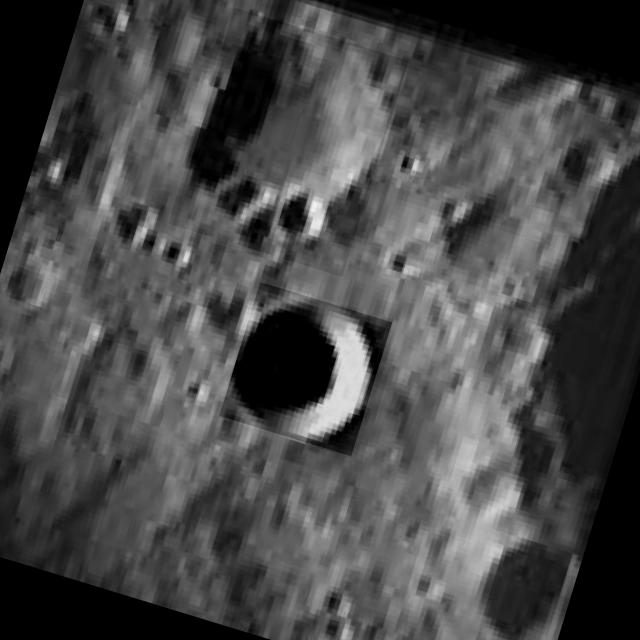crater: (168, 8, 408, 276), (218, 282, 392, 456)
